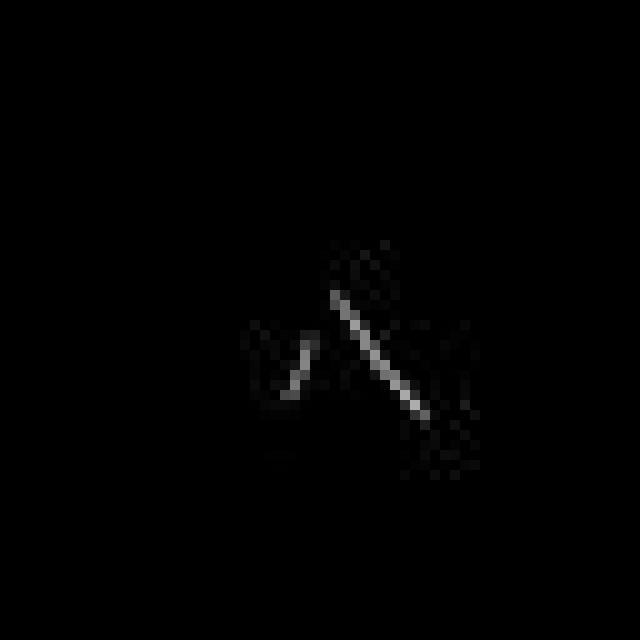8 -eight-: (273, 273, 443, 430)
